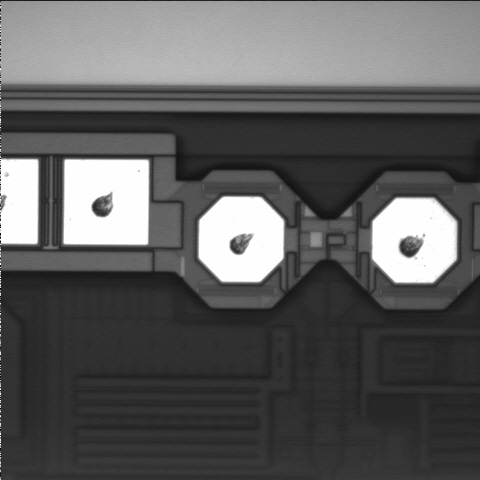pad: (64, 160, 149, 245), (199, 197, 284, 282), (372, 198, 457, 283)
